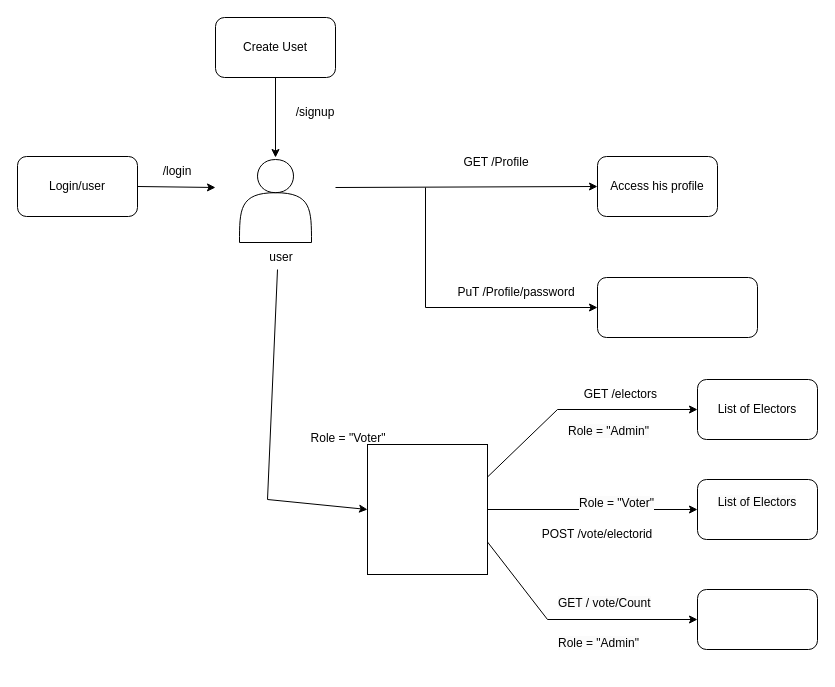
Some shapes in this 835 by 687 pixel diagram are drawn without their labels. Each missing label, with the box of its shape:
Profile Password Change: (596, 276, 758, 338)
Vote: (366, 444, 488, 574)
